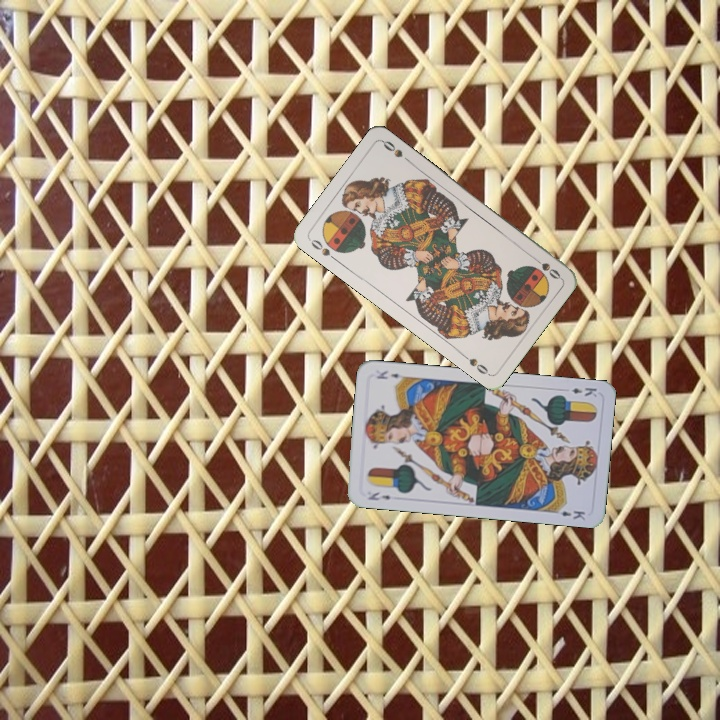EK: (568, 384, 599, 400), (364, 488, 393, 503)
SO: (528, 252, 563, 282), (306, 235, 340, 264)
